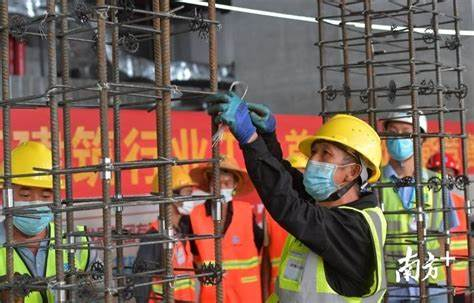safetyhat: (274, 102, 390, 303)
